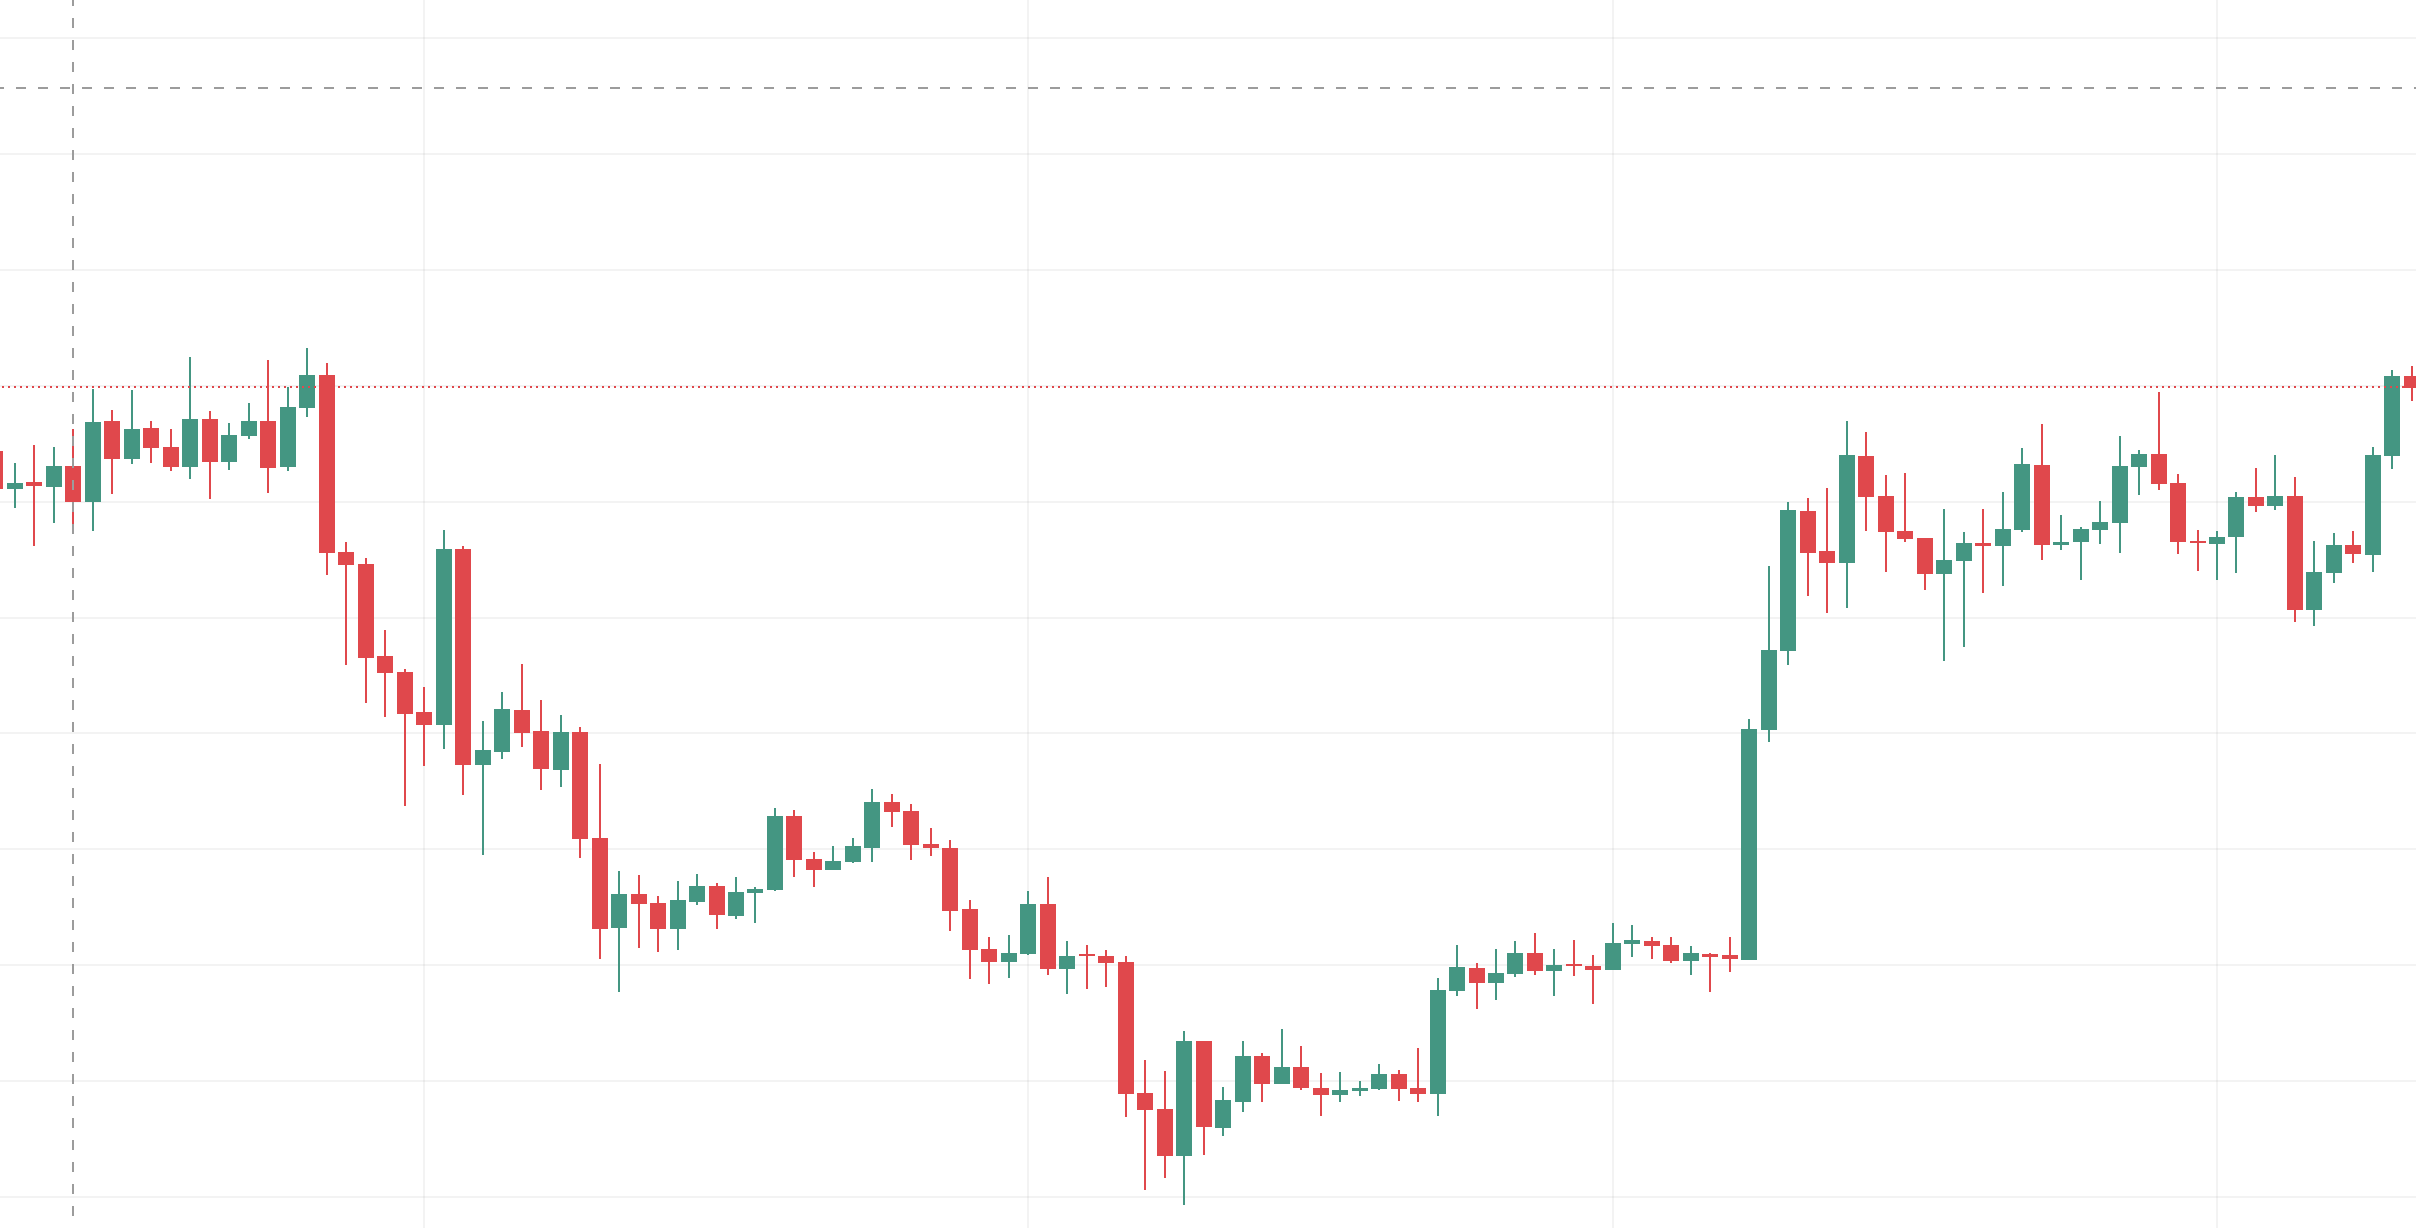V-turn: (880, 719, 1253, 1212)
